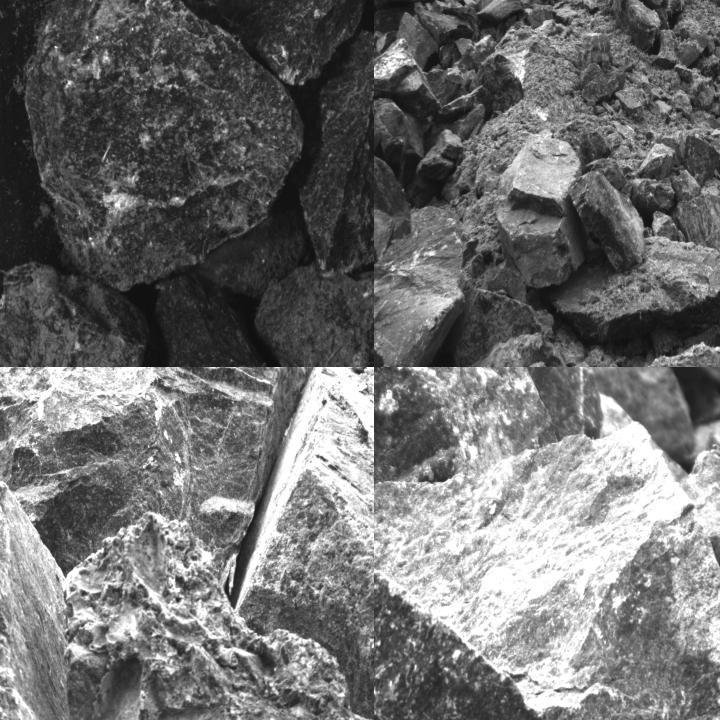stone: (374, 421, 719, 719), (26, 0, 303, 295), (0, 367, 319, 588), (374, 367, 605, 545), (374, 507, 546, 719), (128, 0, 369, 83), (296, 32, 373, 274), (554, 241, 719, 337), (0, 258, 144, 366), (374, 206, 465, 366), (154, 279, 314, 366), (498, 134, 586, 290), (256, 267, 373, 366), (678, 441, 719, 707), (189, 210, 303, 298), (570, 170, 648, 270), (374, 40, 439, 117), (374, 111, 412, 234), (374, 102, 433, 177), (671, 191, 719, 272), (589, 337, 719, 366), (374, 186, 392, 361), (608, 0, 661, 53), (399, 9, 439, 72), (435, 85, 485, 123), (683, 136, 720, 187), (632, 179, 673, 217), (581, 67, 625, 102), (576, 34, 615, 72), (638, 144, 677, 180), (415, 147, 455, 181), (477, 0, 524, 25), (676, 34, 706, 68), (654, 29, 678, 69), (434, 130, 463, 159), (616, 89, 644, 118), (673, 172, 699, 197), (709, 128, 719, 184), (583, 0, 612, 16), (640, 0, 668, 9), (704, 0, 719, 10), (716, 45, 719, 63)
